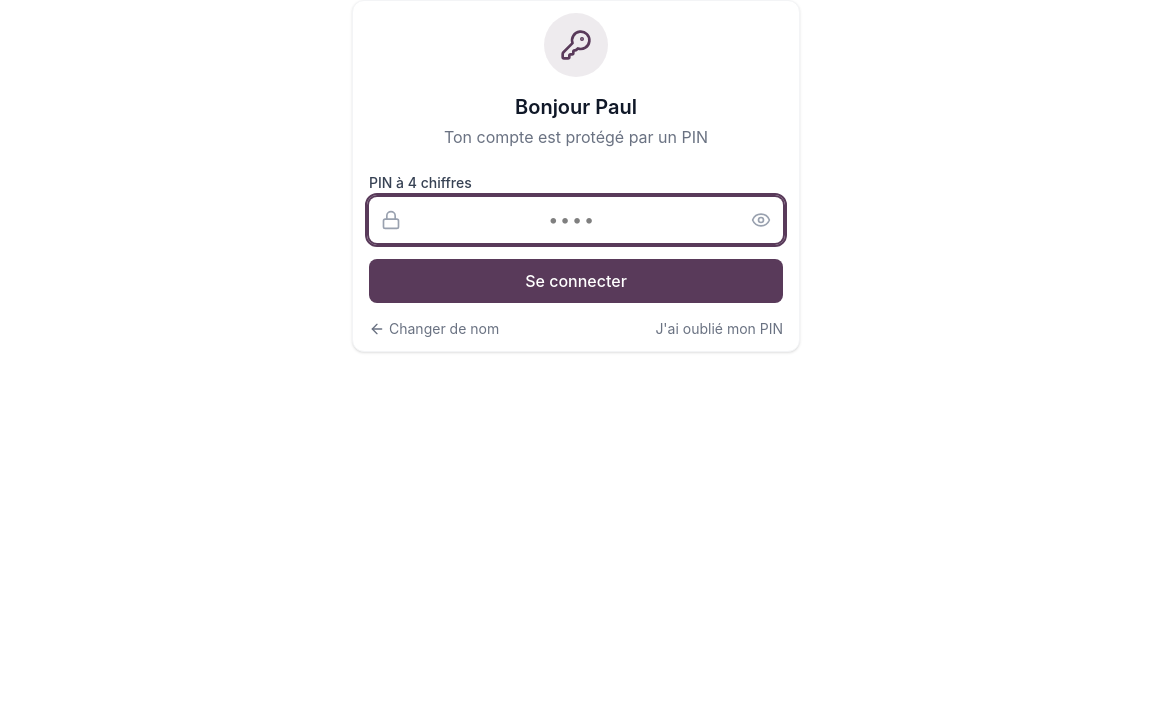
Scenario: SecurityModal — profil AVEC PIN › propose de changer le PIN avec l’ancien
In the password field labelled "PIN à 4 chiffres": point(576, 220) [369, 197, 783, 243], type "1111"
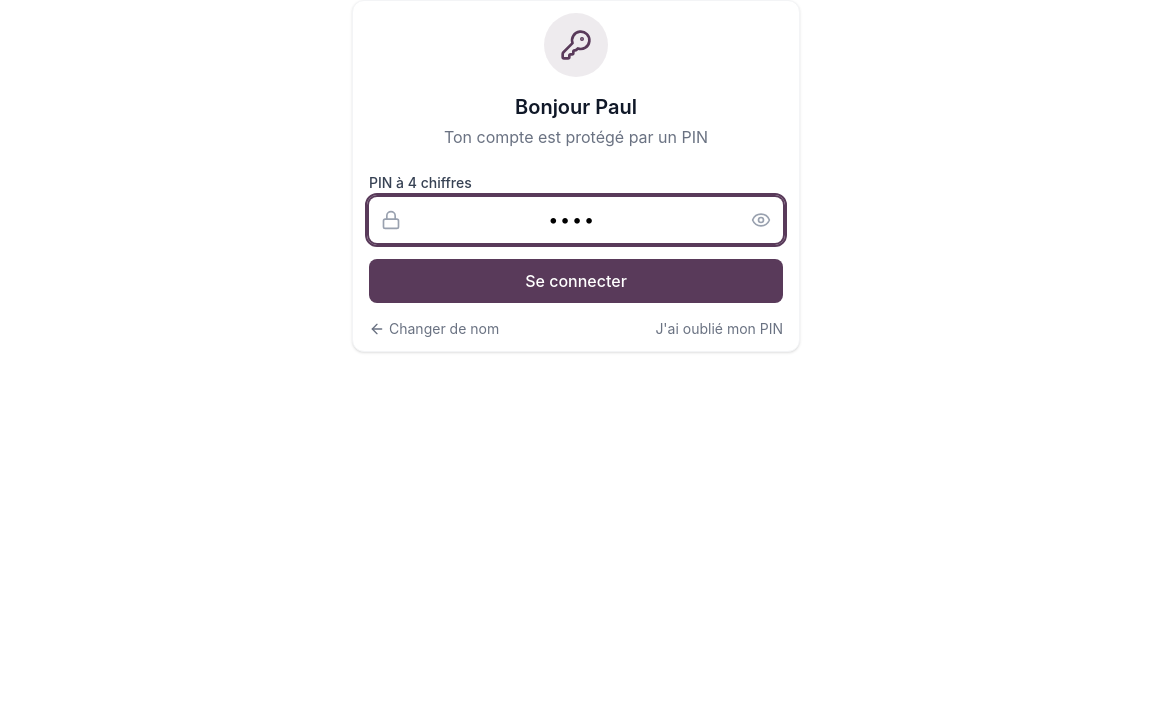
Click the button "Se connecter": point(576, 281) [369, 259, 783, 303]
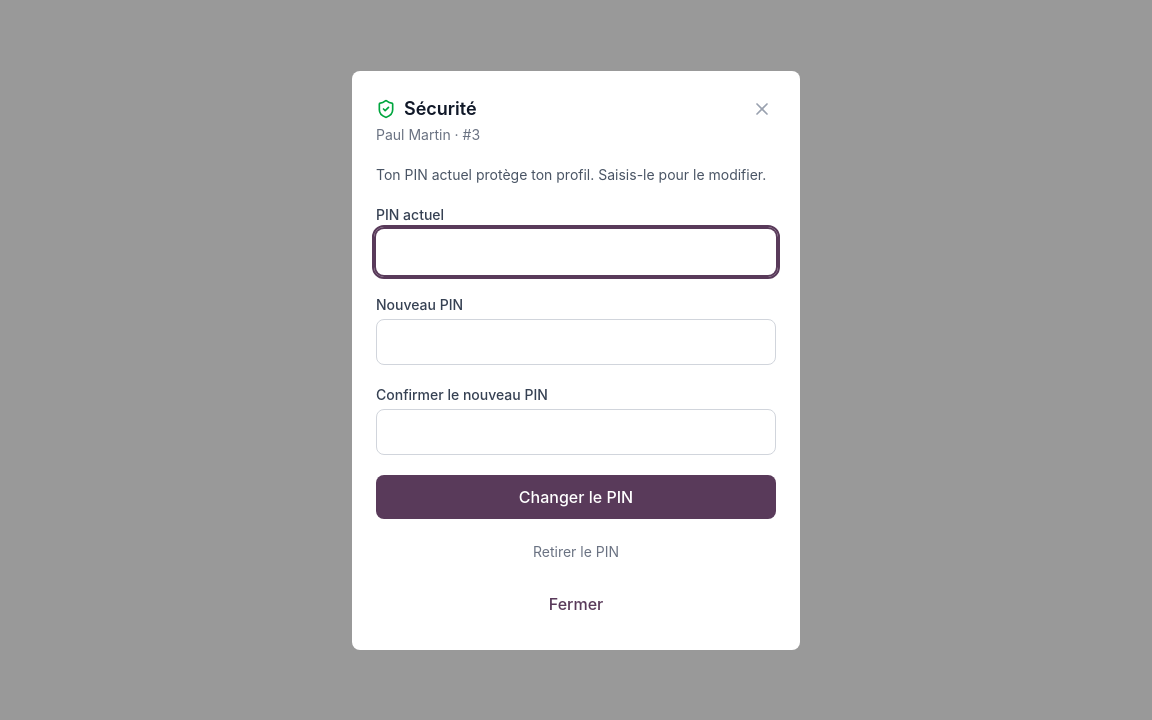
Result: the password field labelled "PIN actuel" is shown at [376, 228, 776, 274]
Result: the password field labelled "Nouveau PIN" is shown at [376, 318, 776, 364]
Result: the password field labelled "Confirmer le nouveau PIN" is shown at [376, 408, 776, 454]
